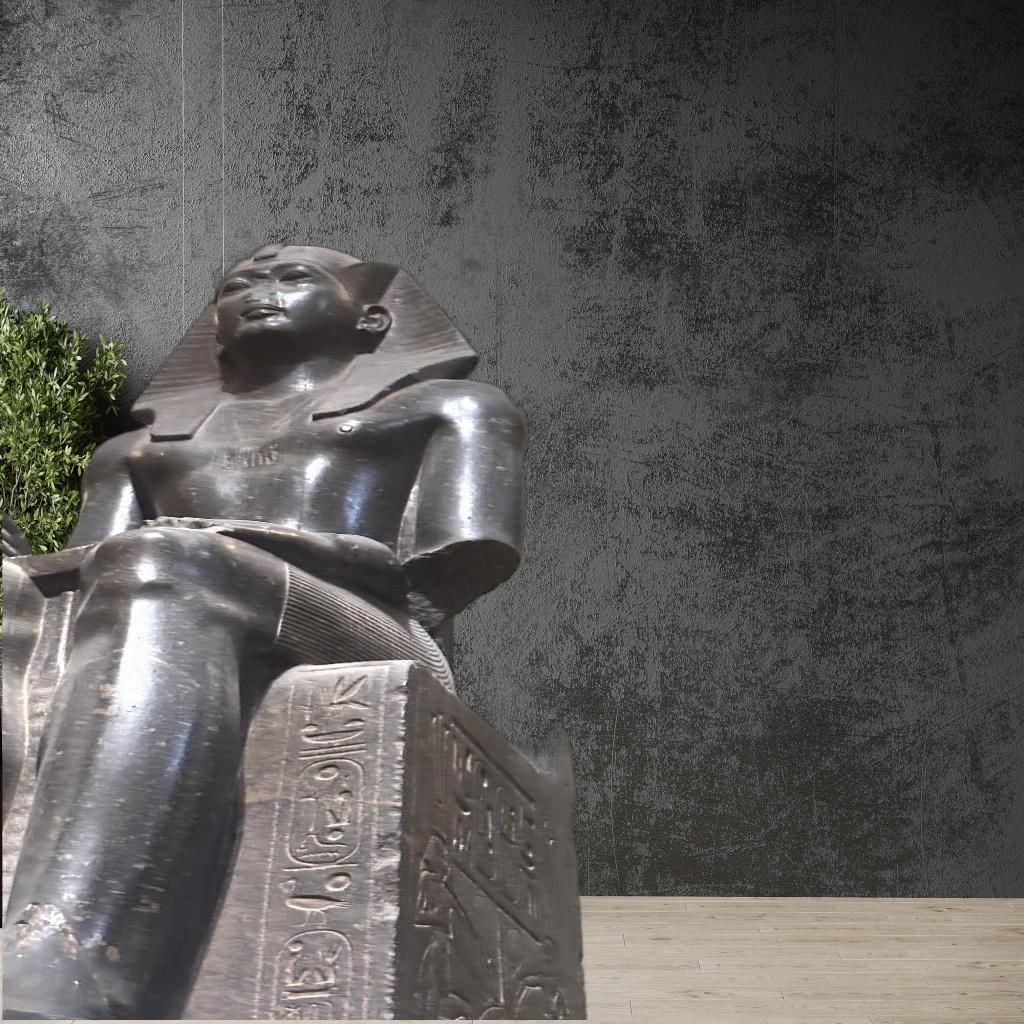Seated Statue of Ramesses II: (3, 237, 588, 1020)
